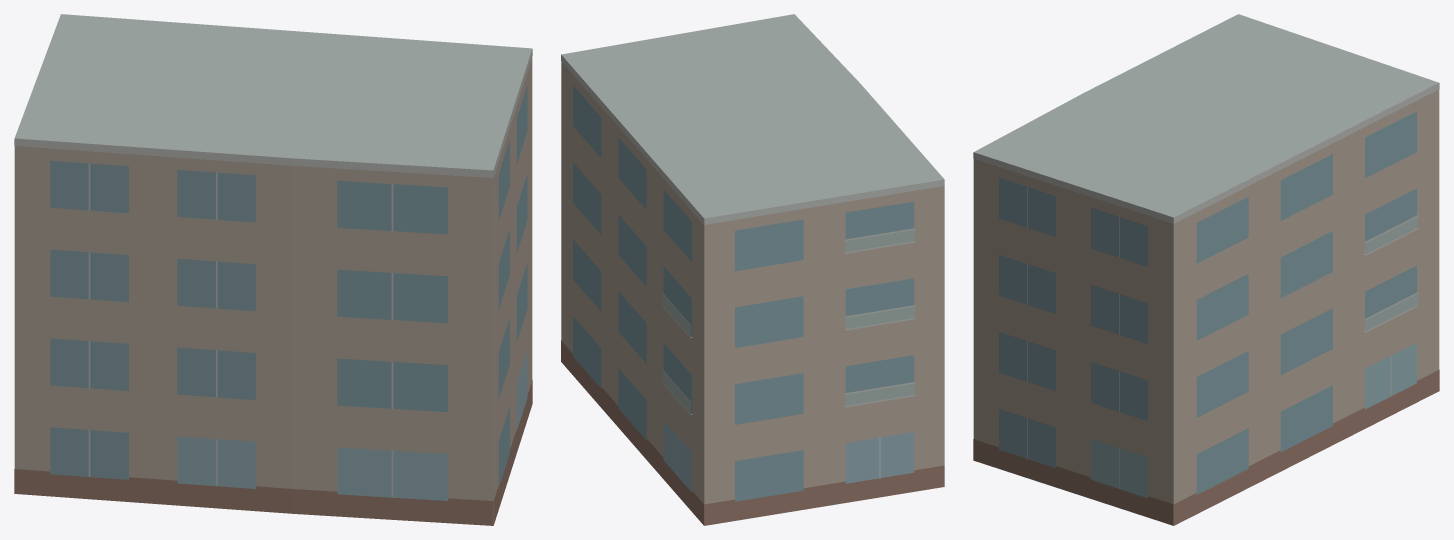
Rendered from survey-upis-32675041.glb.
3 views of the same model, side by side, from view 1: azimuth 30°, elevation 25°; view 2: azimuth 150°, elevation 25°; view 3: azimuth 270°, elevation 25° (orthographic). The views are drawn at different scales.
Visible parts, largest first — view 1: survey-upis-32675041.tmp; view 2: survey-upis-32675041.tmp; view 3: survey-upis-32675041.tmp.
Part boxes in pixels (x1,y1,x2,y2): survey-upis-32675041.tmp: [14, 14, 532, 525]; survey-upis-32675041.tmp: [561, 14, 944, 525]; survey-upis-32675041.tmp: [973, 14, 1439, 525].
Size of the model in its own units: 16.5 by 11.65 by 15.96.
